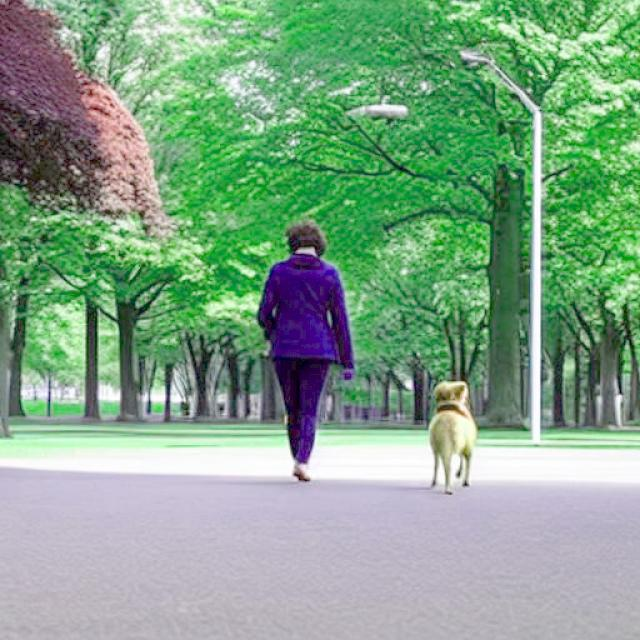Unleashed_Dog: (286, 362, 475, 494)
